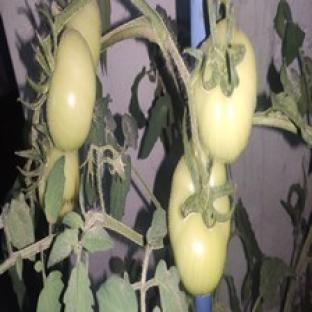Tomato: (169, 156, 231, 295), (193, 28, 256, 162), (46, 30, 96, 151), (38, 148, 79, 218)
